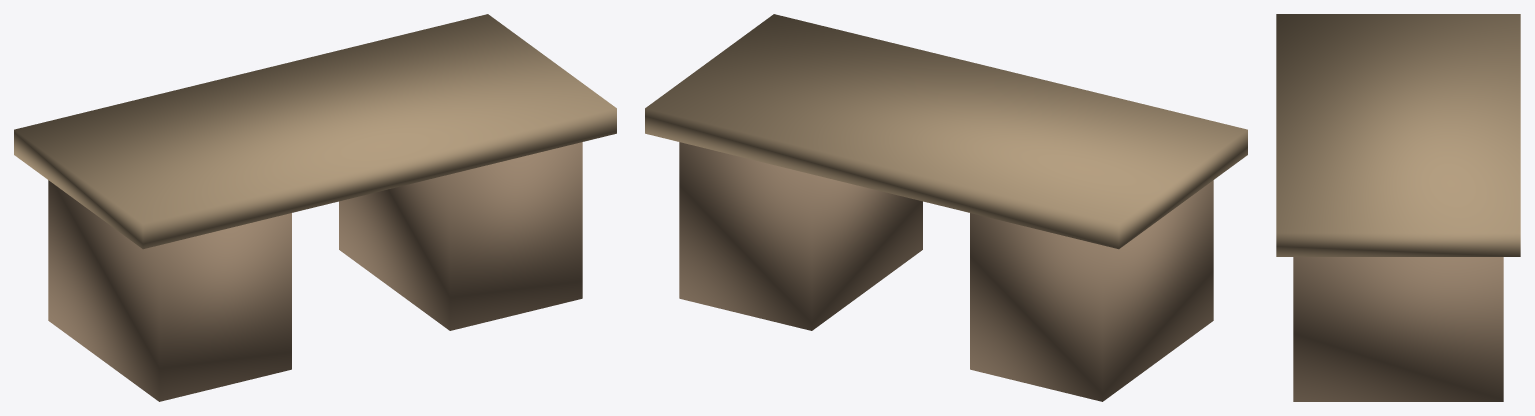
File: teacher_desk__squat.glb
3 views of the same model, side by side, from view 1: azimuth 30°, elevation 25°; view 2: azimuth 150°, elevation 25°; view 3: azimuth 270°, elevation 25° (orthographic). The views are drawn at different scales.
Visible parts, largest first — view 1: world; view 2: world; view 3: world.
Part boxes in pixels (<box>): world: <box>14,14,616,401</box>; world: <box>645,14,1247,401</box>; world: <box>1276,14,1520,401</box>.
Size of the model in its own units: 1.65 by 0.6342 by 0.7776.
